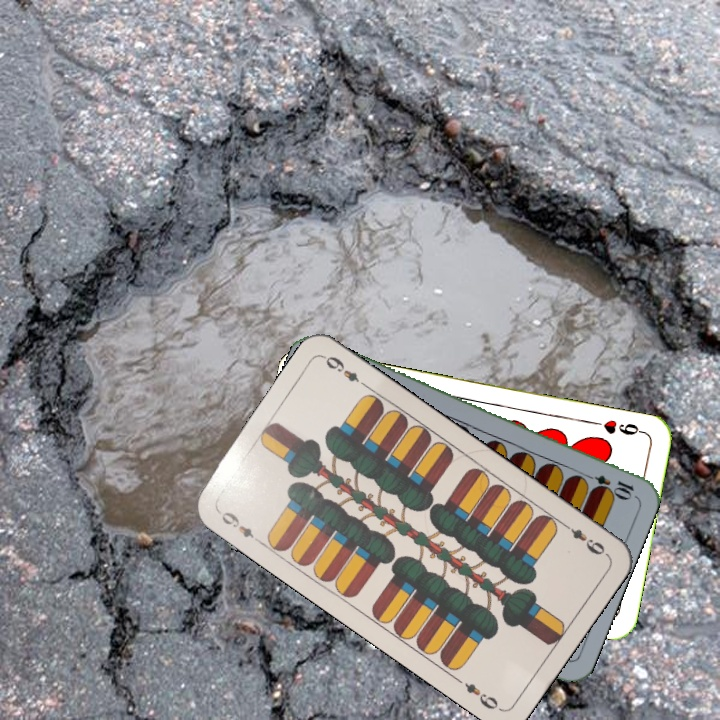E10: (578, 469, 637, 500)
E9: (558, 519, 610, 558), (215, 506, 264, 547)
H9: (588, 415, 647, 438)
